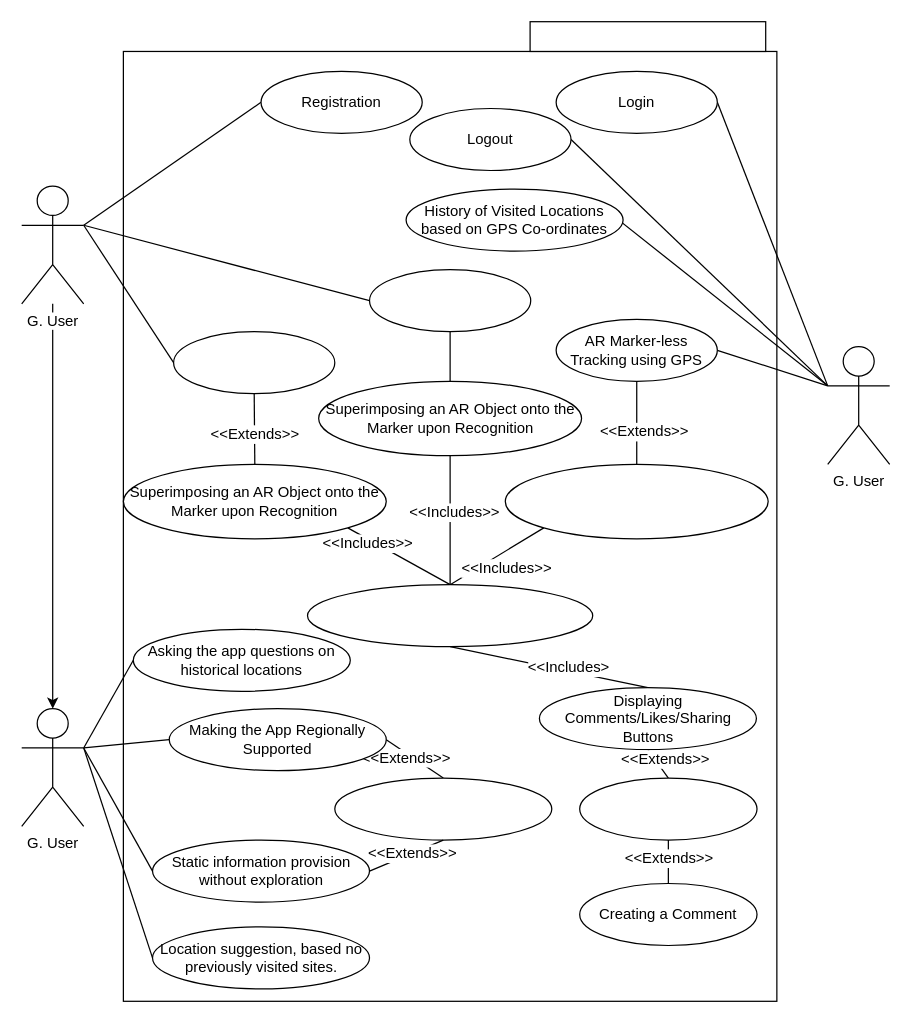
The diagram is 911 pixels wide and 1023 high, and some of its shapes have lost their labels. Here are the shapes that lost their labels. From the top down, the centre of each, then its label:
At (647,35): "AR Tour Guide UCD".
At (449,300): "AR Object Tracking".
At (253,362): "AR Marker Tracking".
At (636,501): "Superimposing an AR Object at the GPS co-ordinates.".
At (449,615): "Tapping on an AR object opens a Canvas with historical information.".
At (443,808): "Viewing historical locations in other countries".
At (667,808): "Displaying Comments".
